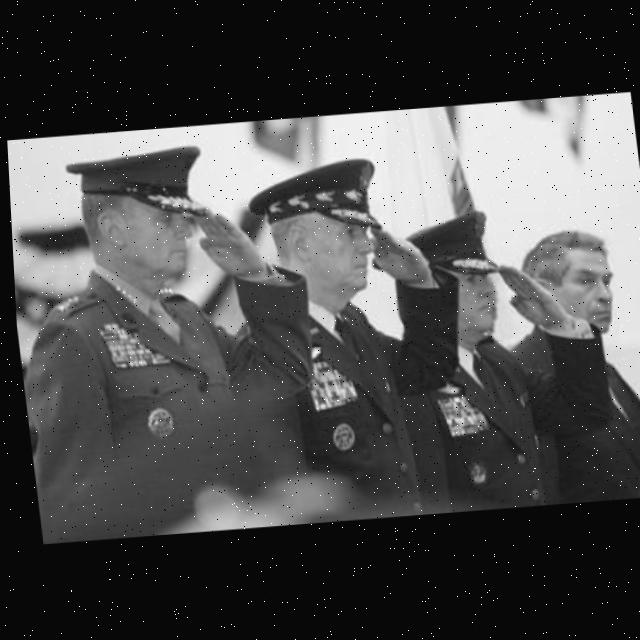face: (106, 180, 204, 300), (298, 200, 388, 315), (543, 242, 625, 346), (434, 252, 501, 354)
